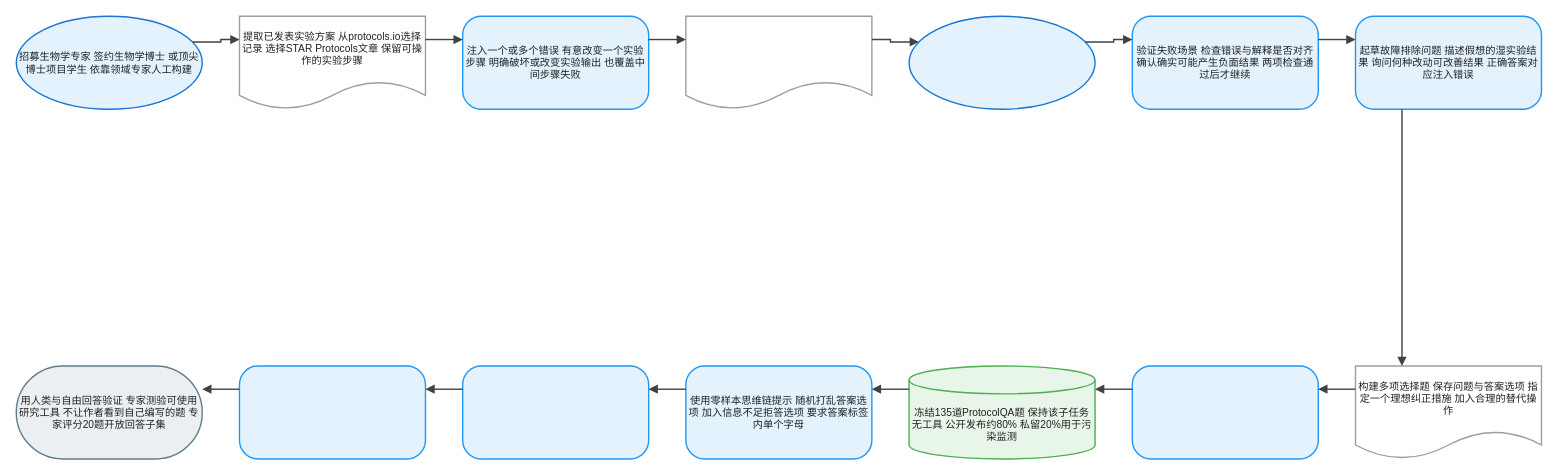
This 1559x476 diagram has some shape labels left out. Each missing label, with the box of its shape:
交给另一批专家 进行第二轮问题撰写 提供全部相关修改上下文 分离错误创建与题目起草: (908, 15, 1095, 110)
在创作界面中审核 用Airtable维护任务与元数据 修订 · 拒绝 · 或批准草稿 把通过题目合入语料库: (1131, 365, 1319, 459)
解析模型选择 用正则提取答案标签 失败时回退到Claude 2解析 把拒答视为未尝试: (462, 365, 649, 459)
解释注入的错误 记录改动为何错误 说明预期负面影响 将解释与修改方案配对: (685, 15, 872, 110)
计算选择性指标 准确率 = 正确数除以全部题 精确率 = 正确数除以已尝试题 覆盖率 = 已尝试题除以全部题: (238, 365, 426, 459)
